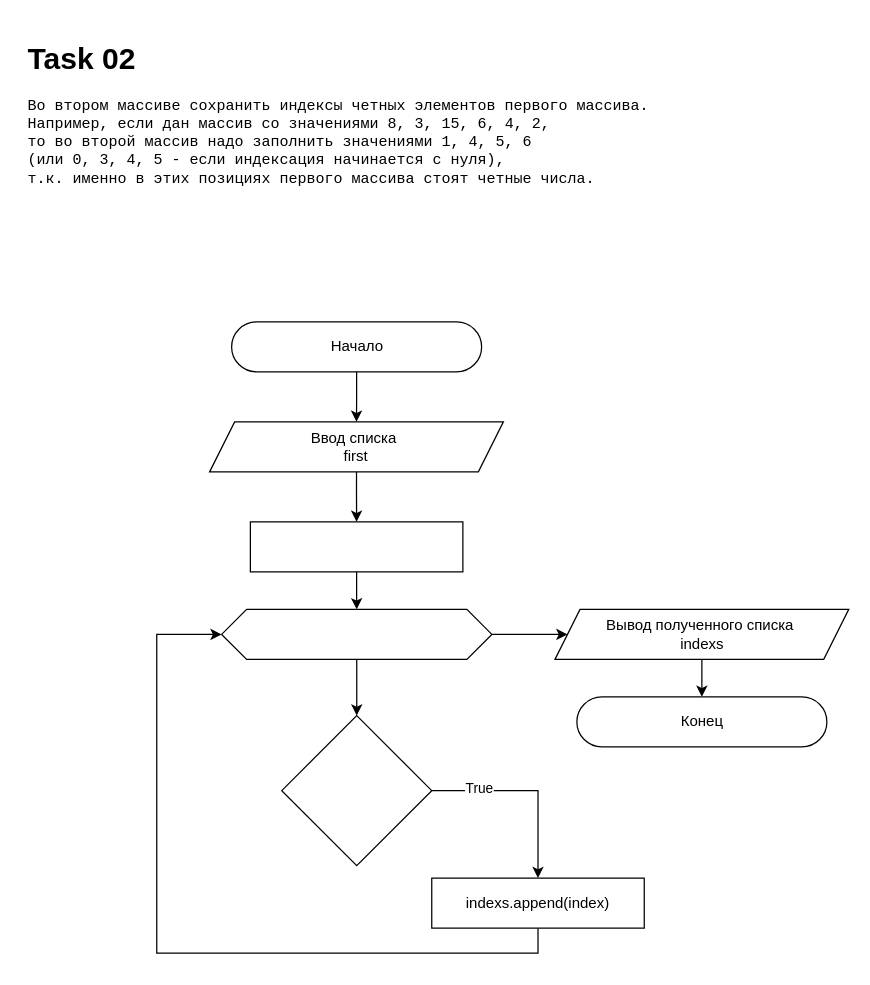
Some shapes in this 870 by 985 pixel diagram are drawn without their labels. The shapes that lost their labels are listed below. From the top down, each one's centre as x and y in pixels, then its label:
At point (356, 546): "indexs = []".
At point (356, 633): "for index, el in enumerate(first)".
At point (356, 790): "if not el % 2".
